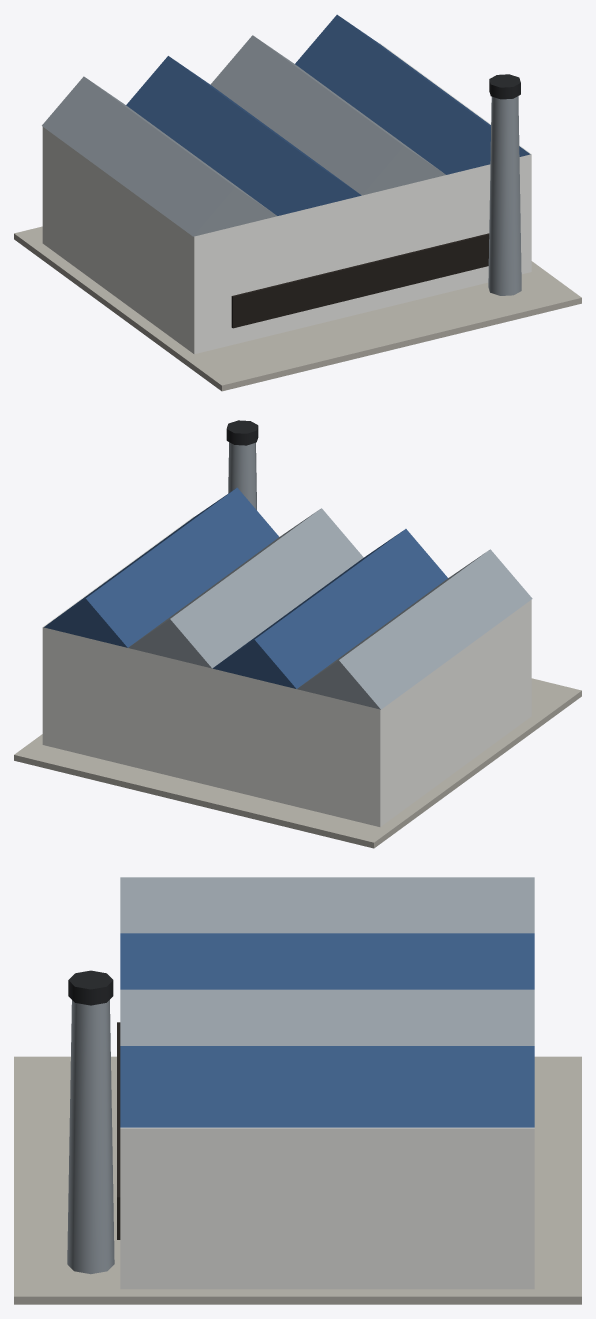
The model's file is zone_I_d2_e3.glb.
3 views of the same model, one above another, from view 1: azimuth 30°, elevation 25°; view 2: azimuth 150°, elevation 25°; view 3: azimuth 270°, elevation 25° (orthographic). The views are drawn at different scales.
Parts seen in each view (by area): view 1: zone_I_d2_e3; view 2: zone_I_d2_e3; view 3: zone_I_d2_e3.
Boxes of the visible parts, x1=… form: zone_I_d2_e3: x1=14, y1=14, x2=581, y2=391; zone_I_d2_e3: x1=14, y1=420, x2=581, y2=848; zone_I_d2_e3: x1=14, y1=877, x2=581, y2=1304.
Bounding box in the file's own units: 0.96 × 0.545 × 0.96.
